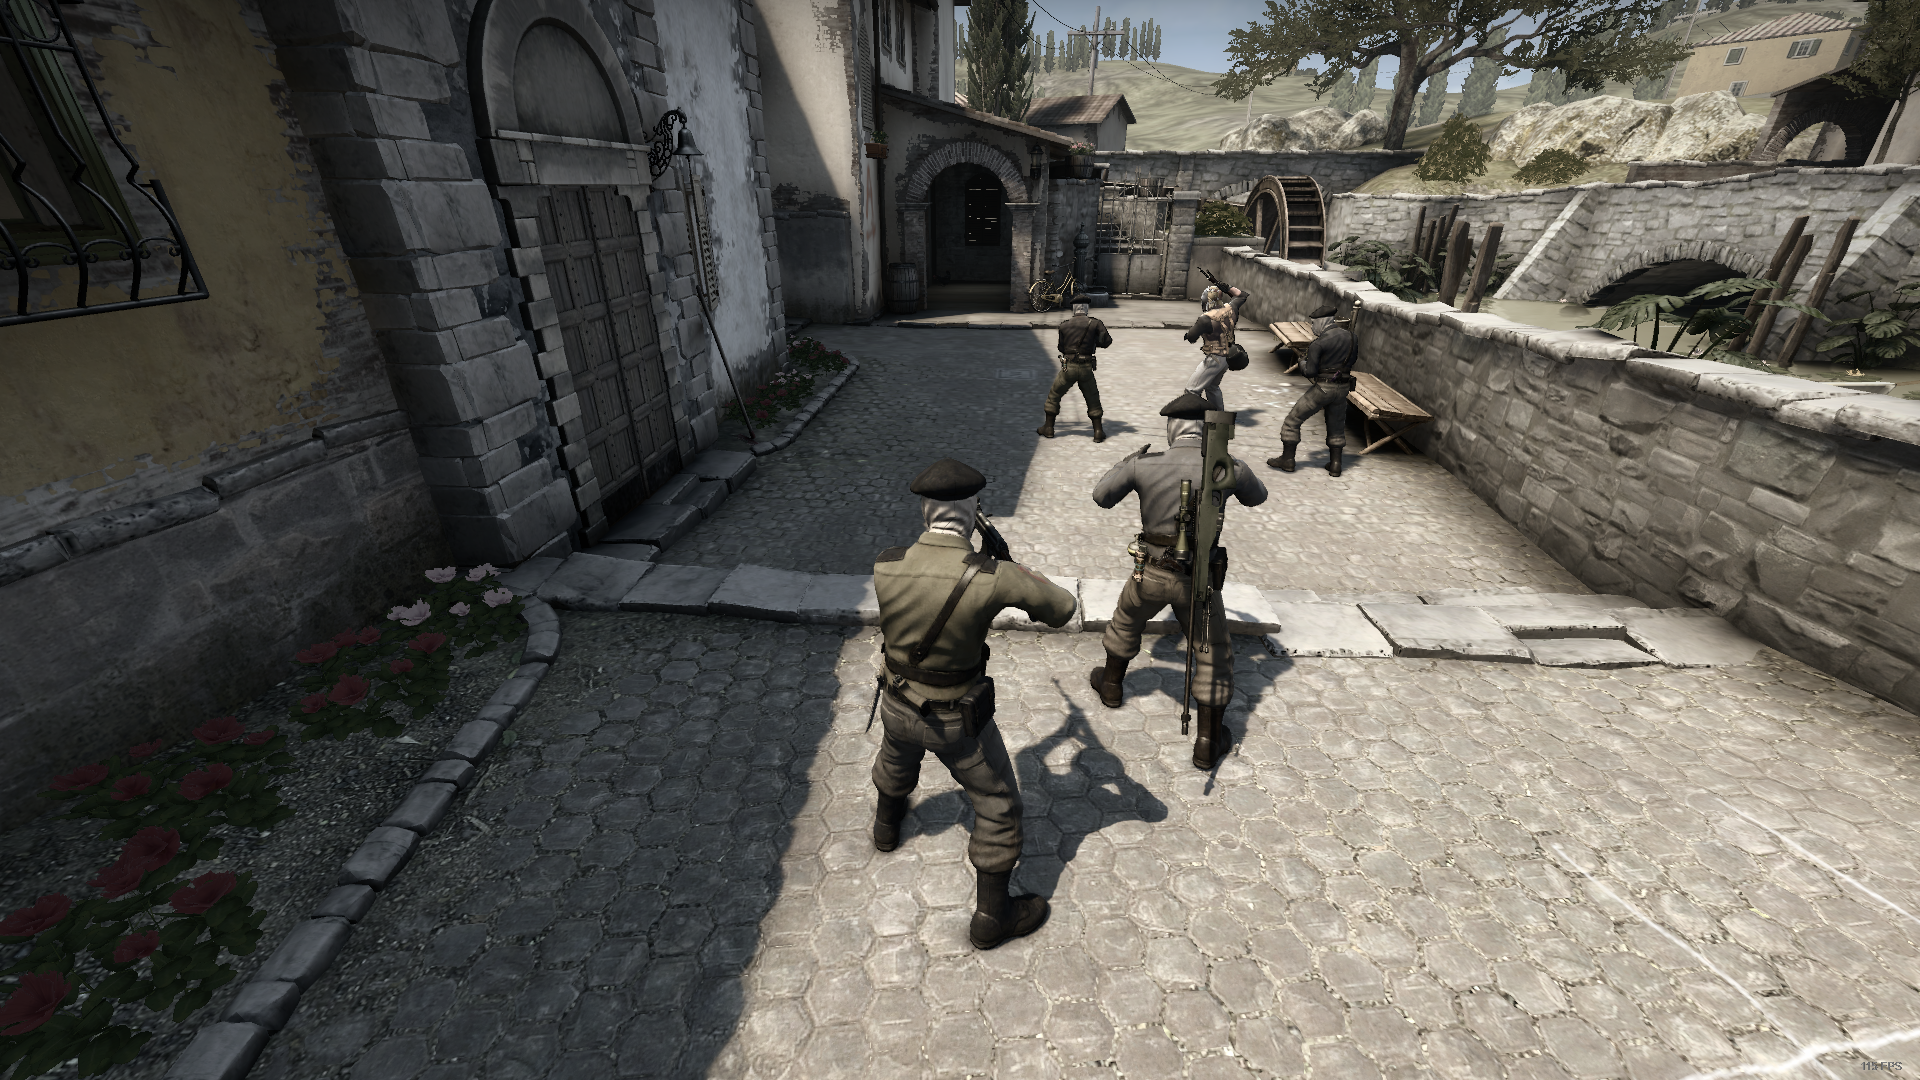t: (869, 458, 1077, 951), (1091, 394, 1269, 765), (1266, 305, 1356, 477), (1036, 293, 1112, 443)
